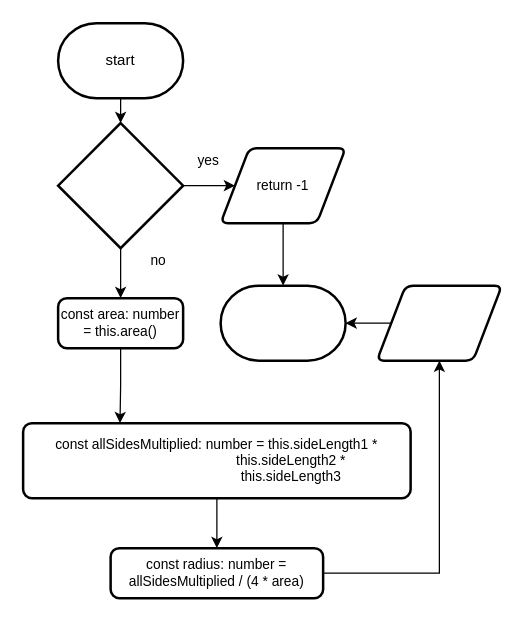
Image size: 524x620. Some labels were removed from this diagram. Each missing label, with the centre of its shape:
if !this.isValid(): [120,185]
return radius: [438,322]
stop: [282,322]
